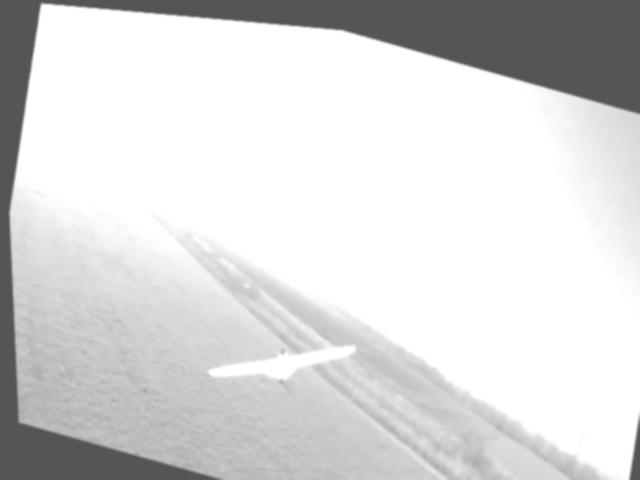hedef: (186, 290, 374, 424)
